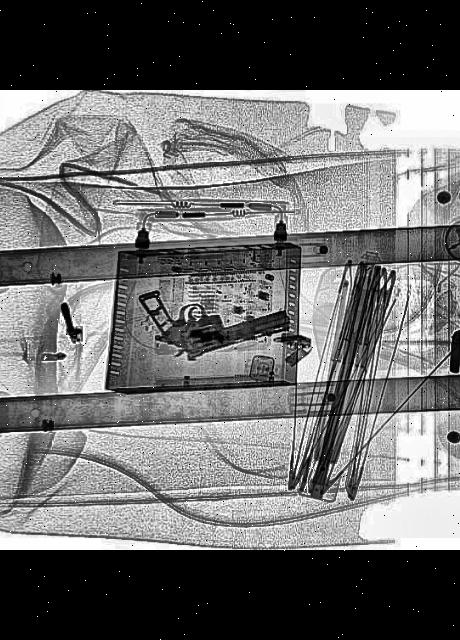Gun: (134, 263, 294, 367)
